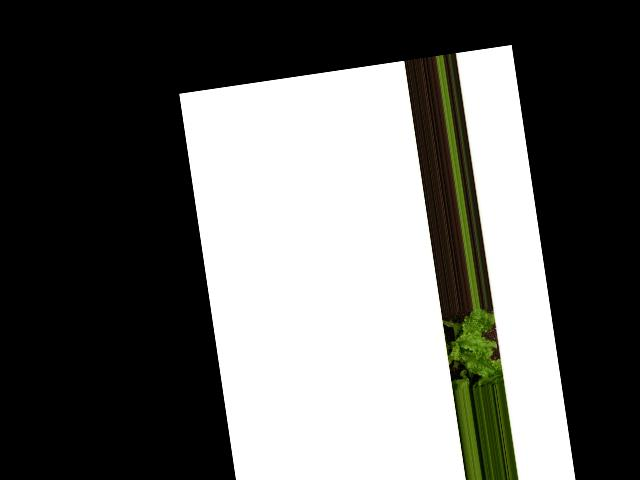lettuce: (438, 307, 501, 392)
